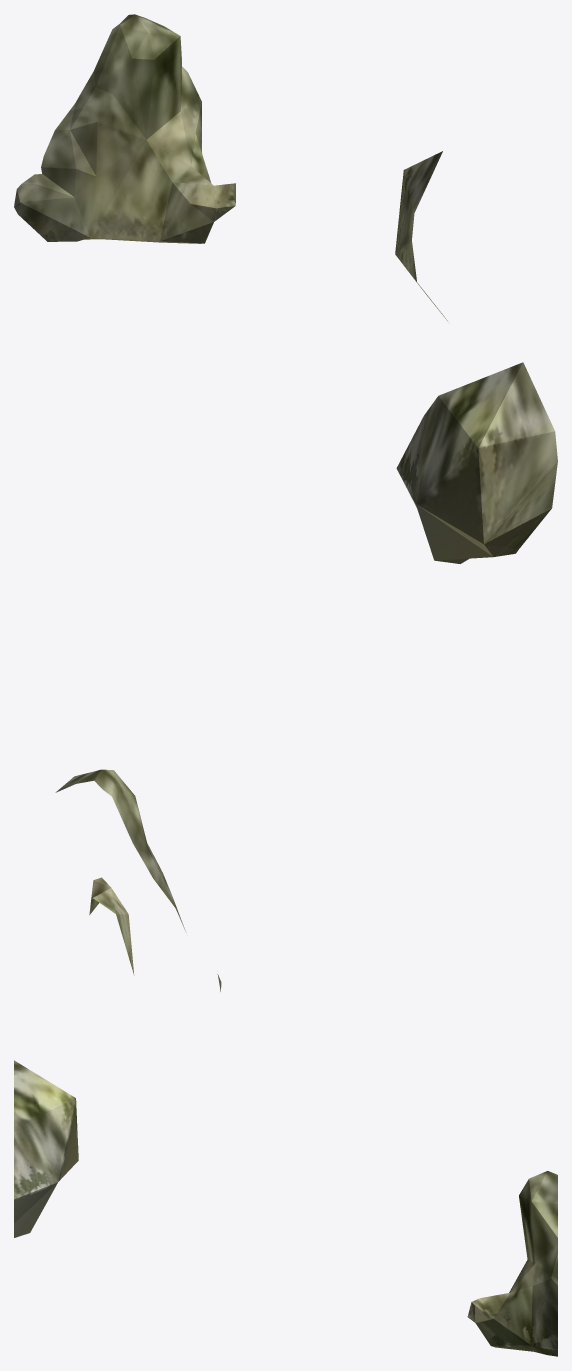
3 views of the same model, one above another, from view 1: azimuth 30°, elevation 25°; view 2: azimuth 150°, elevation 25°; view 3: azimuth 270°, elevation 25° (orthographic). The views are drawn at different scales.
Size of the model in its own units: 0.9327 by 1.56 by 2.95.
1 material, 1 textured.
